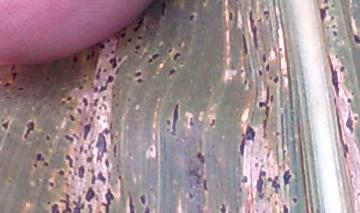tarspot: (333, 98, 349, 160), (325, 53, 340, 98), (238, 122, 257, 157), (257, 84, 271, 131), (248, 9, 259, 51), (100, 186, 115, 213), (97, 72, 116, 93), (96, 131, 108, 161), (22, 118, 36, 142), (172, 101, 180, 140), (255, 170, 266, 198), (344, 104, 354, 134), (281, 166, 293, 190), (126, 188, 136, 213), (267, 174, 280, 193), (319, 5, 331, 25), (72, 194, 85, 212), (82, 122, 94, 141), (76, 162, 86, 183), (84, 184, 95, 202), (194, 148, 207, 163), (147, 50, 160, 65), (158, 1, 168, 20), (64, 151, 73, 170), (62, 194, 71, 212), (241, 32, 248, 55), (48, 201, 61, 213), (270, 73, 283, 85), (166, 65, 177, 79), (97, 169, 107, 184), (351, 30, 360, 46), (33, 150, 46, 161), (138, 192, 148, 206), (1, 119, 11, 133), (132, 77, 146, 87), (187, 11, 196, 26), (218, 198, 227, 213), (171, 50, 182, 62), (107, 57, 119, 68), (61, 133, 73, 144), (208, 117, 219, 129), (187, 116, 197, 129), (42, 133, 54, 143), (259, 50, 267, 65), (202, 176, 209, 193), (102, 156, 111, 169), (226, 9, 234, 23), (81, 95, 89, 109), (9, 69, 19, 80), (240, 174, 250, 185), (84, 154, 96, 163), (131, 24, 140, 36), (275, 45, 287, 54), (236, 185, 248, 194), (143, 204, 155, 213), (111, 143, 118, 158), (77, 143, 85, 156), (76, 83, 86, 93), (147, 144, 157, 154), (80, 70, 90, 80), (47, 179, 56, 190), (281, 202, 290, 213), (115, 172, 124, 183), (331, 27, 339, 39), (262, 8, 271, 18), (100, 93, 109, 103), (252, 160, 261, 170), (256, 68, 264, 79), (16, 84, 24, 95), (92, 97, 100, 108), (104, 36, 112, 47), (291, 194, 299, 205), (186, 190, 194, 201), (134, 33, 146, 40), (84, 52, 91, 64), (42, 159, 51, 168), (345, 95, 354, 104), (65, 93, 74, 102), (70, 54, 79, 63), (89, 175, 98, 184), (57, 168, 65, 178), (133, 70, 143, 78), (67, 113, 75, 123), (98, 41, 105, 52), (340, 64, 347, 75), (109, 93, 120, 100), (270, 92, 275, 107), (164, 118, 172, 127), (273, 130, 282, 138), (133, 43, 141, 52), (119, 32, 128, 40), (238, 66, 246, 75), (88, 115, 96, 124), (272, 198, 280, 207), (100, 104, 109, 112), (142, 24, 151, 32), (30, 162, 40, 169), (63, 180, 73, 187), (109, 47, 116, 56), (352, 113, 359, 122), (44, 74, 51, 83), (262, 143, 269, 152), (243, 77, 248, 89), (96, 113, 102, 123), (124, 96, 134, 102), (3, 80, 10, 88), (265, 64, 271, 73)
